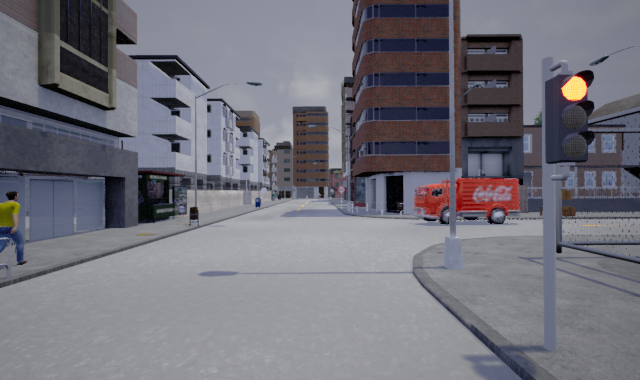pedestrian: (1, 185, 36, 269)
traffic_light: (546, 70, 595, 165)
traffic_sign: (337, 185, 346, 195)
vehicle: (408, 177, 523, 226)
